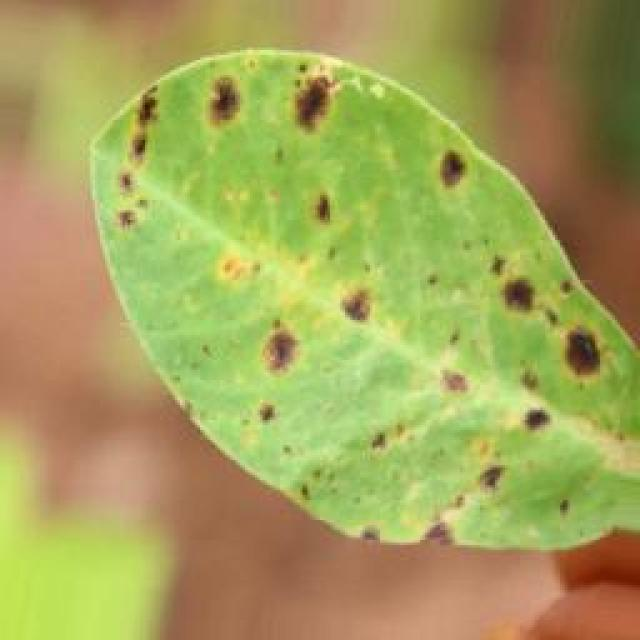Yellowish: (118, 50, 636, 551)
